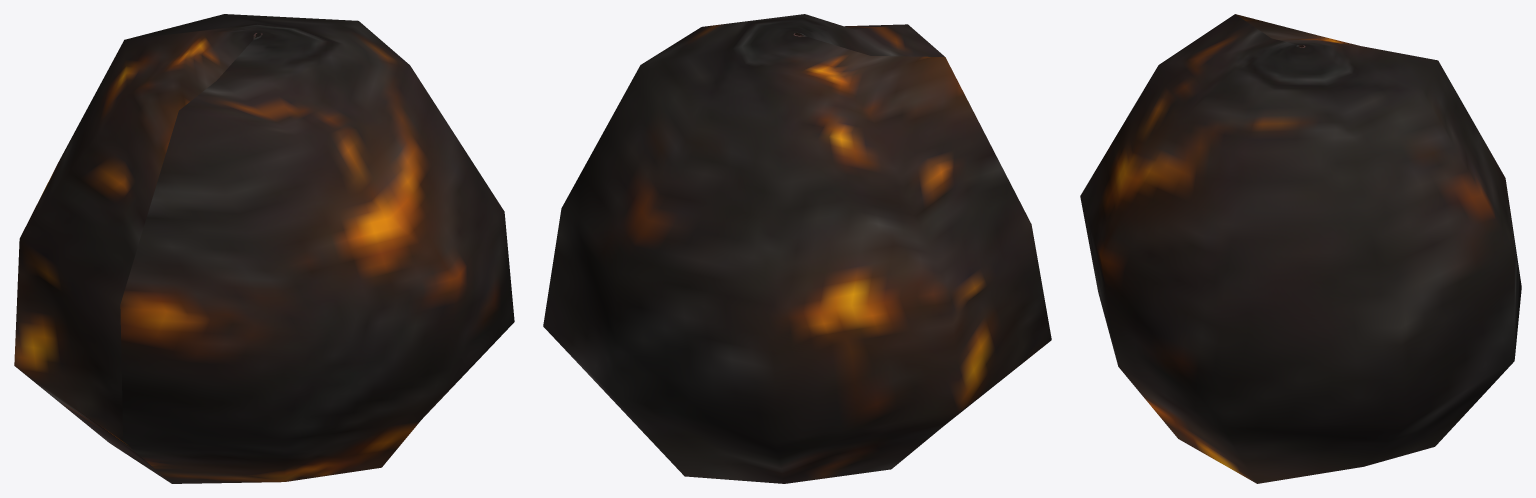
Rendered from Piedra Cayendo.fbx.
3 renders of one model, left to right at view 1: azimuth 30°, elevation 25°; view 2: azimuth 150°, elevation 25°; view 3: azimuth 270°, elevation 25°, orthographic. The views are drawn at different scales.
Parts seen in each view (by area): view 1: Sphere.003; view 2: Sphere.003; view 3: Sphere.003.
Part boxes in pixels (box(x1,y1,x2,y2)): Sphere.003: box(14, 14, 514, 483); Sphere.003: box(543, 14, 1051, 483); Sphere.003: box(1080, 14, 1521, 483).
Size of the model in its own units: 161 by 158 by 159.
